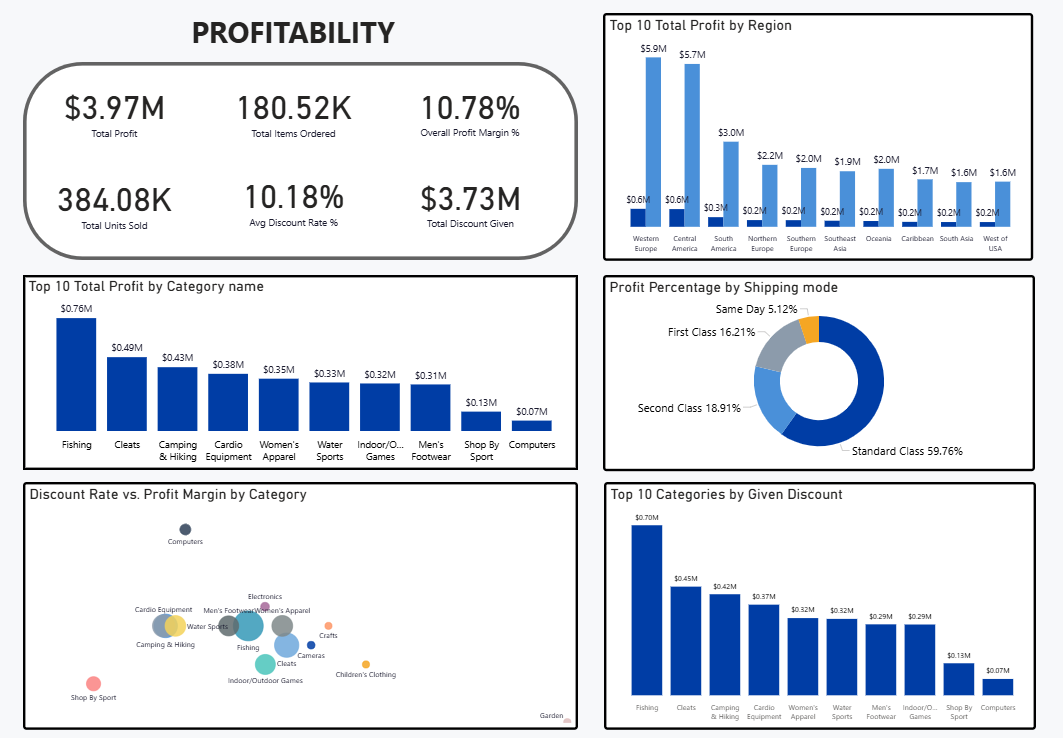

This screenshot's page, from the dashboard's own definition file:
{"tool":"powerbi","page":{"name":"Profitability","canvas":[1800,1250],"ordinal":1},"visuals":[{"type":"textbox","box":[196.7,20,586.7,86.7],"z":0},{"type":"clusteredColumnChart","title":"Top 10 Total Profit by Region","fields":{"Y":["Sum(MART_PROFIT_BY_CATEGORY_REGION.TOTAL_PROFIT)","Sum(MART_PROFIT_BY_CATEGORY_REGION.TOTAL_SALES)"],"Category":["MART_PROFIT_BY_CATEGORY_REGION.ORDER_REGION"]},"box":[1006.7,26.7,716.7,413.3],"z":1000},{"type":"scatterChart","title":"Discount Rate vs. Profit Margin by Category","fields":{"X":["MART_DISCOUNT_EFFECTIVENESS.Discount Profit Margin %"],"Y":["MART_DISCOUNT_EFFECTIVENESS.Avg Discount Rate %"],"Size":["Sum(MART_DISCOUNT_EFFECTIVENESS.TOTAL_SALES)"],"Series":["MART_DISCOUNT_EFFECTIVENESS.CATEGORY_NAME"]},"box":[40,807.5,925,412.5],"z":2000},{"type":"columnChart","title":"Top 10 Categories by Given Discount","fields":{"Category":["MART_DISCOUNT_EFFECTIVENESS.CATEGORY_NAME"],"Y":["Sum(MART_DISCOUNT_EFFECTIVENESS.TOTAL_DISCOUNT_GIVEN)"]},"box":[1007.5,807.5,720,412.5],"z":3000},{"type":"shape","box":[15,107.5,950,330],"z":4000},{"type":"card","fields":{"Values":["Sum(MART_PROFIT_BY_CATEGORY_REGION.NUM_ORDER_ITEMS)"]},"box":[356,130,268,116],"z":5000},{"type":"card","fields":{"Values":["Sum(MART_PROFIT_BY_CATEGORY_REGION.TOTAL_PROFIT)"]},"box":[58,130,268,116],"z":6000},{"type":"card","fields":{"Values":["FACT_ORDERS.Overall Profit Margin %"]},"box":[652,130,266,114],"z":7000},{"type":"card","fields":{"Values":["MART_DISCOUNT_EFFECTIVENESS.Avg Discount Rate %"]},"box":[356,272,268,130],"z":8000},{"type":"card","fields":{"Values":["Sum(MART_DISCOUNT_EFFECTIVENESS.TOTAL_DISCOUNT_GIVEN)"]},"box":[652,276,268,124],"z":9000},{"type":"card","fields":{"Values":["Sum(MART_DISCOUNT_EFFECTIVENESS.TOTAL_UNITS_SOLD)"]},"box":[58,276,268,130],"z":10000},{"type":"donutChart","title":"Profit Percentage by Shipping mode","fields":{"Y":["FACT_ORDERS.Total Profit"],"Category":["FACT_ORDERS.SHIPPING_MODE"]},"box":[1006.7,463.3,720,326.7],"z":11000},{"type":"clusteredColumnChart","title":"Top 10 Total Profit by Category name","fields":{"Y":["Sum(MART_PROFIT_BY_CATEGORY_REGION.TOTAL_PROFIT)"],"Category":["MART_PROFIT_BY_CATEGORY_REGION.CATEGORY_NAME"]},"box":[40,462.5,925,325],"z":12000}]}

Visuals, with their boxes in screenshot pixels (x1, y1, x2, y2), scaled from the page's 1800x1250 canvas onto the 1063x738 screenshot:
textbox: [116,12,463,63]
"Top 10 Total Profit by Region" clusteredColumnChart: [595,16,1018,260]
"Discount Rate vs. Profit Margin by Category" scatterChart: [24,477,570,720]
"Top 10 Categories by Given Discount" columnChart: [595,477,1020,720]
shape: [9,63,570,258]
card - Sum(MART_PROFIT_BY_CATEGORY_REGION.NUM_ORDER_ITEMS): [210,77,369,145]
card - Sum(MART_PROFIT_BY_CATEGORY_REGION.TOTAL_PROFIT): [34,77,193,145]
card - FACT_ORDERS.Overall Profit Margin %: [385,77,542,144]
card - MART_DISCOUNT_EFFECTIVENESS.Avg Discount Rate %: [210,161,369,237]
card - Sum(MART_DISCOUNT_EFFECTIVENESS.TOTAL_DISCOUNT_GIVEN): [385,163,543,236]
card - Sum(MART_DISCOUNT_EFFECTIVENESS.TOTAL_UNITS_SOLD): [34,163,193,240]
"Profit Percentage by Shipping mode" donutChart: [595,274,1020,466]
"Top 10 Total Profit by Category name" clusteredColumnChart: [24,273,570,465]
